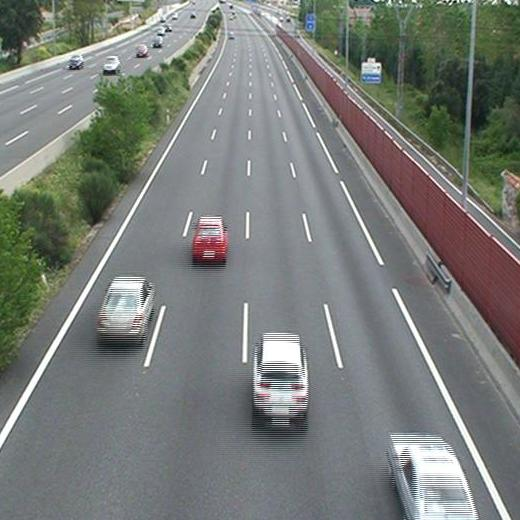car: (389, 434, 476, 520), (253, 335, 307, 417), (97, 277, 152, 338), (193, 217, 226, 261)
